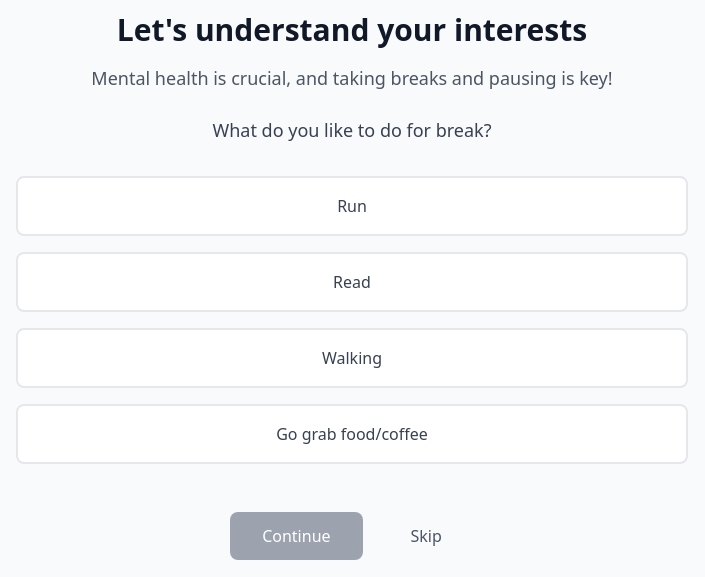
Test case: InterestsStep › selecting activities enables Continue and toggles styles
This screenshot has width=705, height=577.
// Select "Run"
What coordinates should you click on to do the following:
click the button "Run"
I would click on:
 (352, 206)
Its box is x1=16 y1=176 x2=688 y2=236.
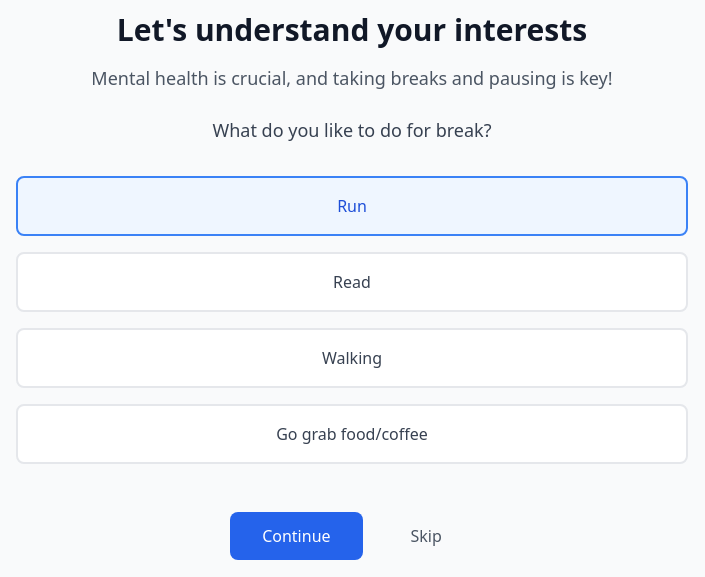
Result: the button "Continue" is enabled at x1=230 y1=512 x2=363 y2=560
// Toggle off then on again
What coordinates should you click on to do the following:
click the button "Run"
I would click on:
 (352, 206)
Its box is x1=16 y1=176 x2=688 y2=236.
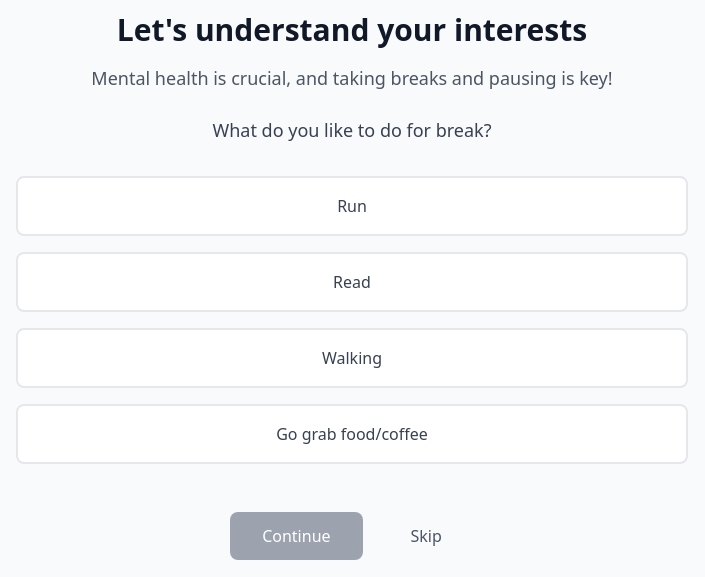
Result: the button "Continue" is disabled at x1=230 y1=512 x2=363 y2=560
What coordinates should you click on to do the following:
click the button "Run"
I would click on:
 (352, 206)
Its box is x1=16 y1=176 x2=688 y2=236.
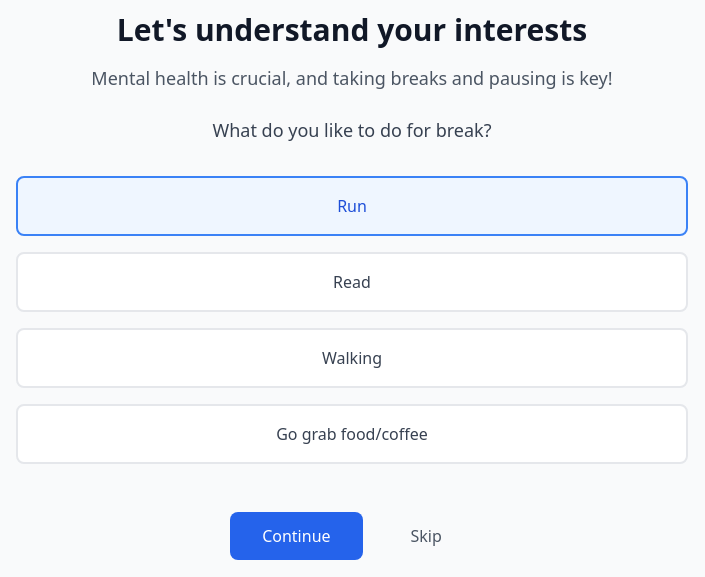
Result: the button "Continue" is enabled at x1=230 y1=512 x2=363 y2=560
